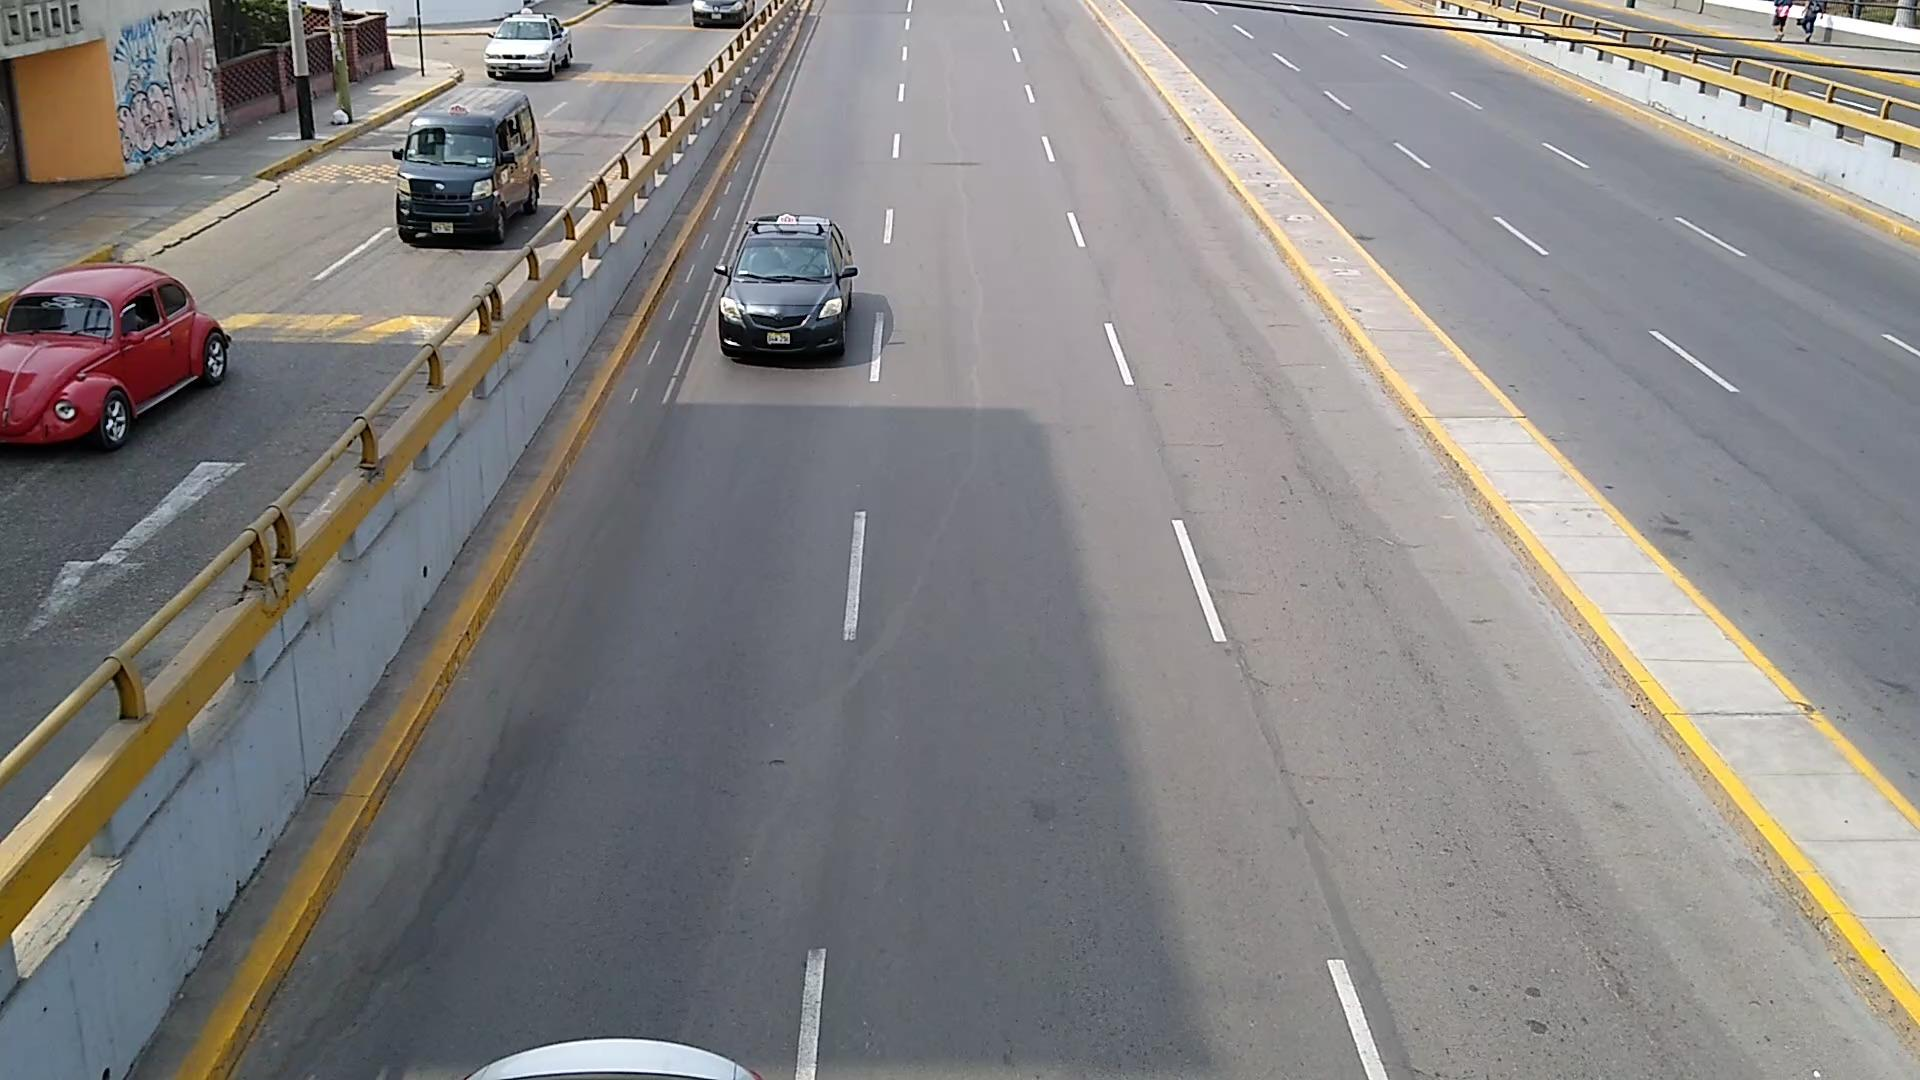car: (0, 266, 228, 450), (712, 214, 858, 356), (484, 12, 574, 76)
minivan: (397, 86, 541, 241)
